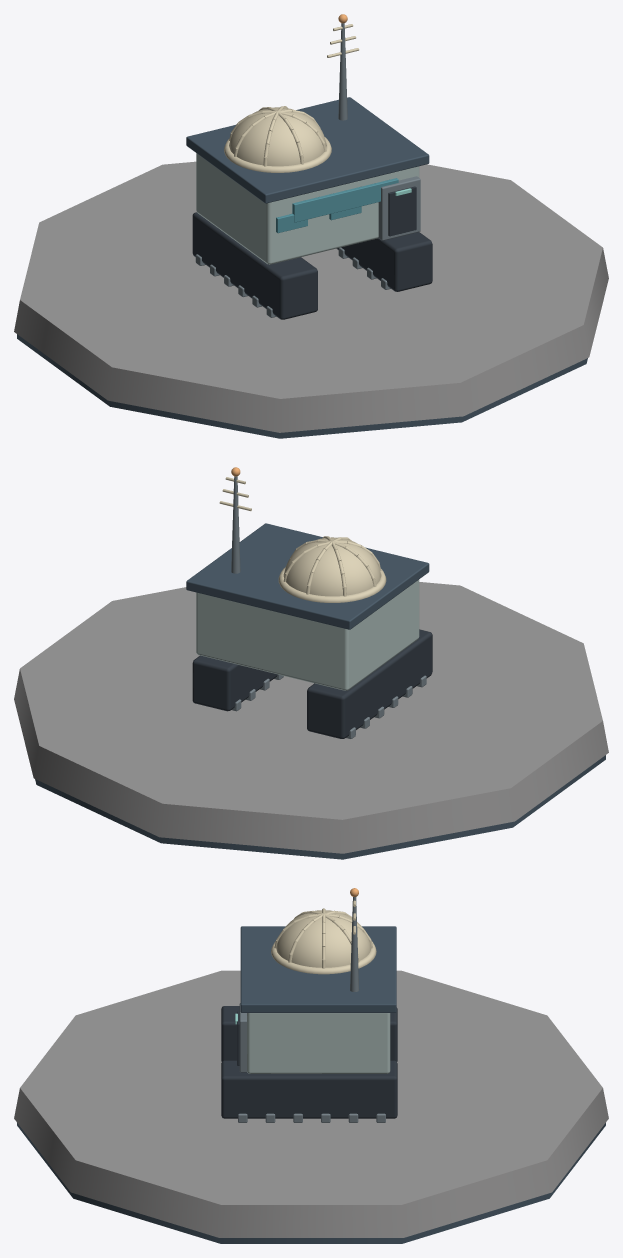
File: palisade.glb
3 renders of one model, top to bottom at view 1: azimuth 30°, elevation 25°; view 2: azimuth 150°, elevation 25°; view 3: azimuth 270°, elevation 25°, orthographic. The views are drawn at different scales.
Parts seen in each view (by area): view 1: Terrain cutaway, Roof slab, Crawler track (×2), Habitat pressure shell, Geodesic dome, Substrate, Bridge window, Sealed door, Airlock surround, Dome sill, Antenna mast; view 2: Terrain cutaway, Habitat pressure shell, Roof slab, Crawler track (×2), Geodesic dome, Substrate, Dome sill, Antenna mast; view 3: Terrain cutaway, Crawler track (×2), Roof slab, Habitat pressure shell, Geodesic dome, Substrate, Dome sill, Antenna mast, Airlock surround.
Boxes of the visible parts, x1,y1,x2,y2 form: Terrain cutaway: (14, 161, 608, 432); Roof slab: (186, 97, 429, 203); Crawler track (×2): (192, 212, 432, 319); Habitat pressure shell: (196, 153, 419, 264); Geodesic dome: (229, 107, 326, 166); Substrate: (17, 334, 587, 438); Bridge window: (292, 178, 398, 222); Sealed door: (388, 186, 416, 236); Airlock surround: (378, 176, 420, 240); Dome sill: (224, 137, 331, 172); Antenna mast: (338, 23, 347, 120); Terrain cutaway: (14, 582, 608, 853); Habitat pressure shell: (196, 579, 419, 690); Roof slab: (186, 523, 429, 629); Crawler track (×2): (192, 629, 432, 738); Geodesic dome: (283, 537, 381, 596); Substrate: (35, 755, 605, 859); Dome sill: (278, 567, 386, 602); Antenna mast: (231, 476, 240, 573); Terrain cutaway: (14, 970, 608, 1237); Crawler track (×2): (221, 1006, 397, 1118); Roof slab: (240, 926, 396, 1012); Habitat pressure shell: (247, 1013, 390, 1073); Geodesic dome: (276, 910, 371, 967); Substrate: (17, 1123, 605, 1243); Dome sill: (271, 941, 376, 974); Antenna mast: (350, 897, 359, 991); Airlock surround: (239, 1003, 247, 1072).
Size of the model in its own units: 5.52 by 2.82 by 5.8.
